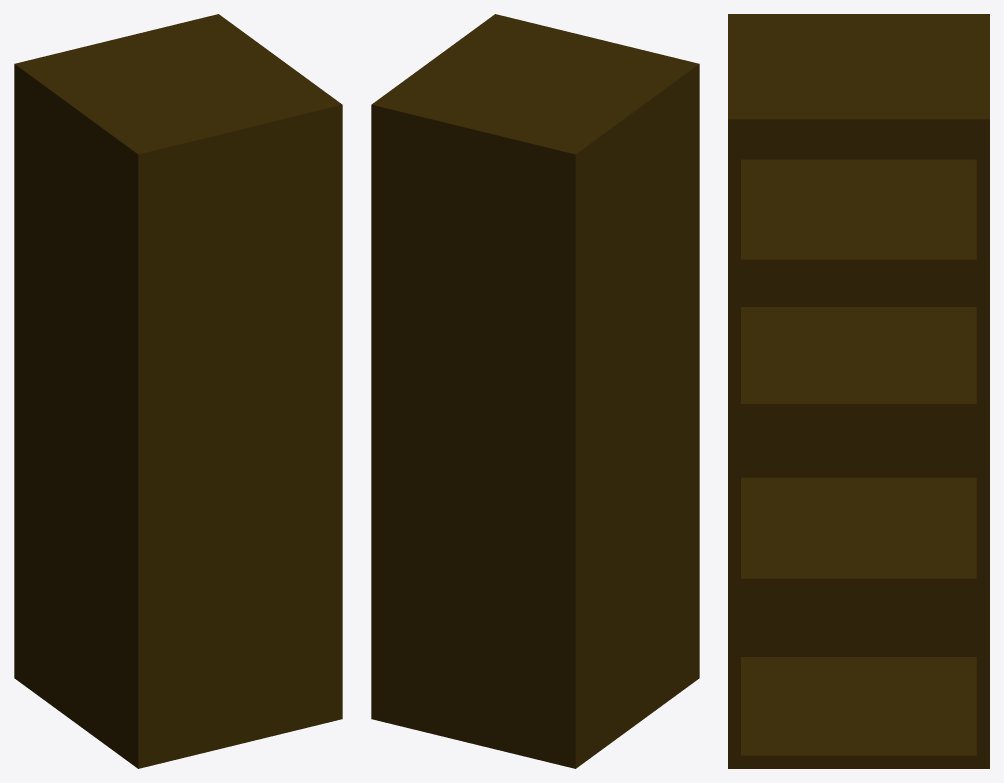
File: bookshelf 1.fbx
3 views of the same model, side by side, from view 1: azimuth 30°, elevation 25°; view 2: azimuth 150°, elevation 25°; view 3: azimuth 270°, elevation 25° (orthographic). The views are drawn at different scales.
Visible parts, largest first — view 1: bookshelf; view 2: bookshelf; view 3: bookshelf.
Part boxes in pixels (<box>): bookshelf: <box>14,14,342,768</box>; bookshelf: <box>371,14,699,768</box>; bookshelf: <box>728,14,989,768</box>.
Bounding box in the file's own units: 4.59 × 13.19 × 4.82.
